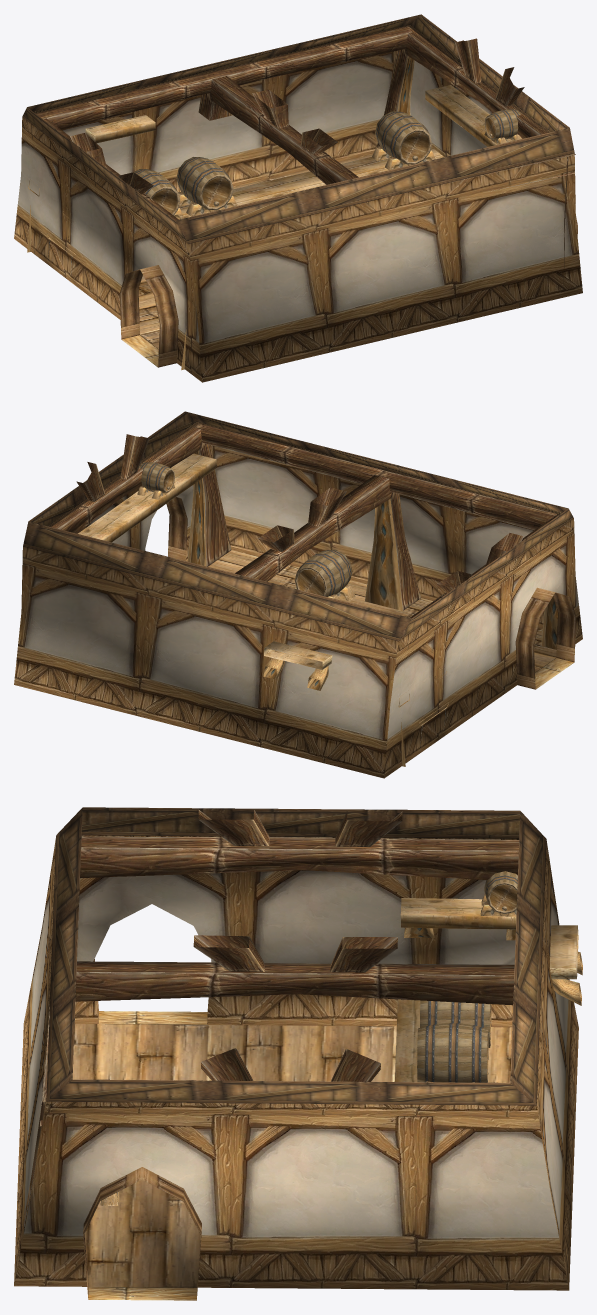
The model's file is stormwind_058.fbx.
3 renders of one model, top to bottom at view 1: azimuth 30°, elevation 25°; view 2: azimuth 150°, elevation 25°; view 3: azimuth 270°, elevation 25°, orthographic. The views are drawn at different scales.
Visible parts, largest first — view 1: stormwind_058_48, stormwind_058_53, stormwind_058_56, stormwind_058_54, stormwind_058_96, stormwind_058_49, stormwind_058_90, stormwind_058_51, stormwind_058_98, stormwind_058_93; view 2: stormwind_058_48, stormwind_058_53, stormwind_058_56, stormwind_058_54, stormwind_058_49, stormwind_058_51, stormwind_058_96, stormwind_058_90; view 3: stormwind_058_48, stormwind_058_53, stormwind_058_56, stormwind_058_51, stormwind_058_54, stormwind_058_96, stormwind_058_49, stormwind_058_90.
Part boxes in pixels (box(x1,y1,x2,y2)): stormwind_058_48: box(14, 40, 582, 382); stormwind_058_53: box(27, 26, 575, 370); stormwind_058_56: box(22, 14, 574, 243); stormwind_058_54: box(28, 85, 521, 256); stormwind_058_96: box(133, 109, 520, 209); stormwind_058_49: box(119, 216, 577, 367); stormwind_058_90: box(152, 118, 517, 213); stormwind_058_51: box(138, 154, 372, 348); stormwind_058_98: box(174, 132, 516, 219); stormwind_058_93: box(150, 116, 496, 215); stormwind_058_48: box(14, 423, 582, 778); stormwind_058_53: box(51, 424, 574, 766); stormwind_058_56: box(23, 411, 573, 641); stormwind_058_54: box(78, 453, 448, 725); stormwind_058_49: box(166, 497, 576, 689); stormwind_058_51: box(208, 550, 556, 672); stormwind_058_96: box(139, 462, 352, 596); stormwind_058_90: box(140, 471, 350, 597); stormwind_058_48: box(14, 835, 578, 1290); stormwind_058_53: box(15, 810, 582, 1300); stormwind_058_56: box(46, 807, 546, 1105); stormwind_058_51: box(72, 1024, 512, 1287); stormwind_058_54: box(394, 898, 582, 1082); stormwind_058_96: box(417, 871, 517, 1082); stormwind_058_49: box(83, 959, 211, 1297); stormwind_058_90: box(426, 884, 517, 1082).
Bounding box in the file's own units: 17.64 × 6.78 × 14.65.
